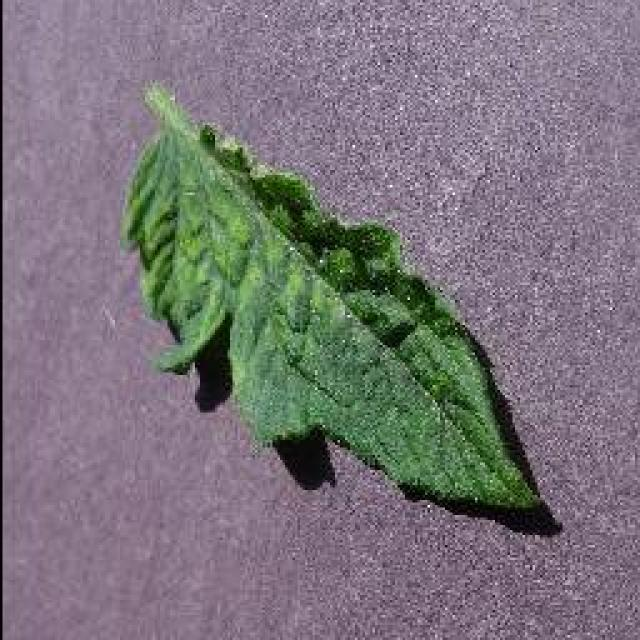Tomato___Tomato_mosaic_virus: (122, 88, 552, 522)
